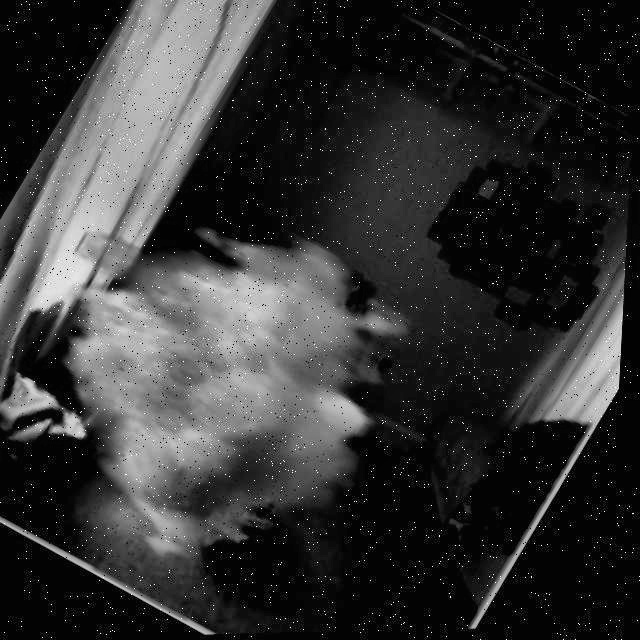Smoke: (0, 144, 459, 627)
